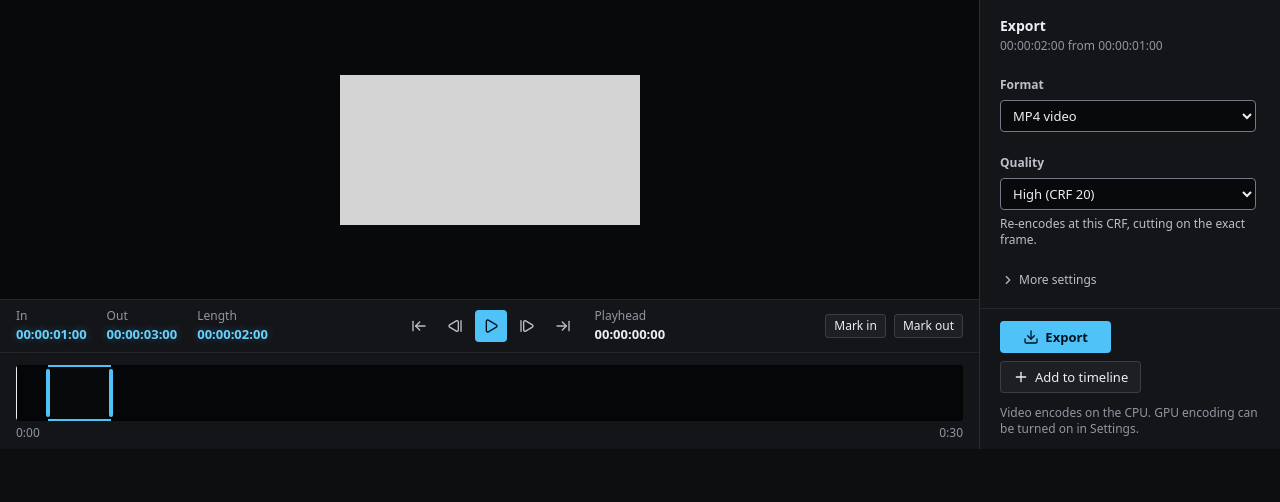
Scenario: the Trim workspace › exports the in to out range with the chosen settings and shows the saved file
Step 1. Select "Medium (CRF 23)" in the 2nd dropdown named "Quality" → (1128, 194), box [1000,178,1256,210]
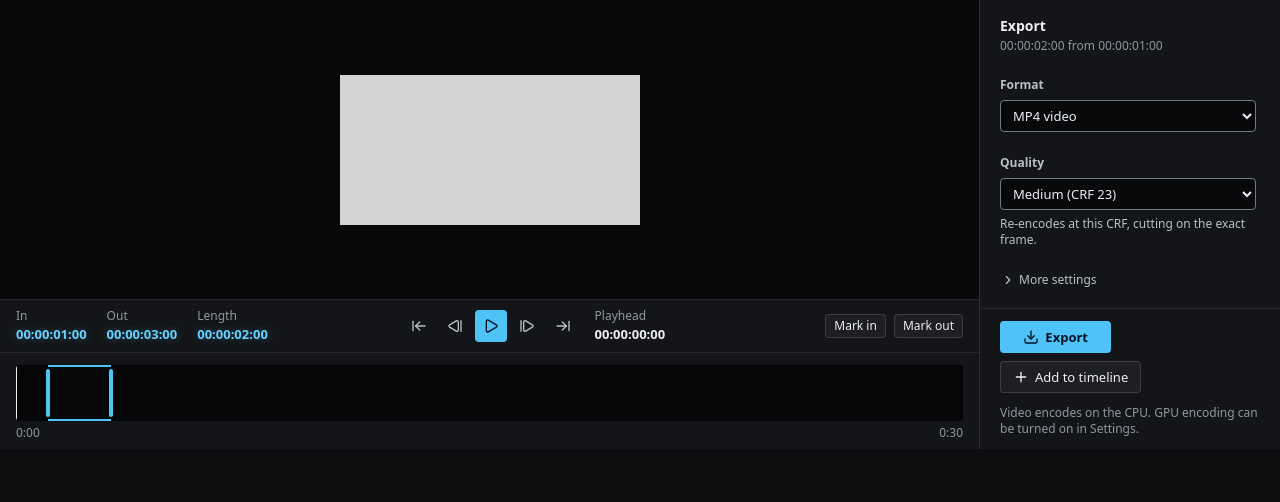
Step 2. Click the button "Export" → (1056, 337), box [1000,321,1111,353]
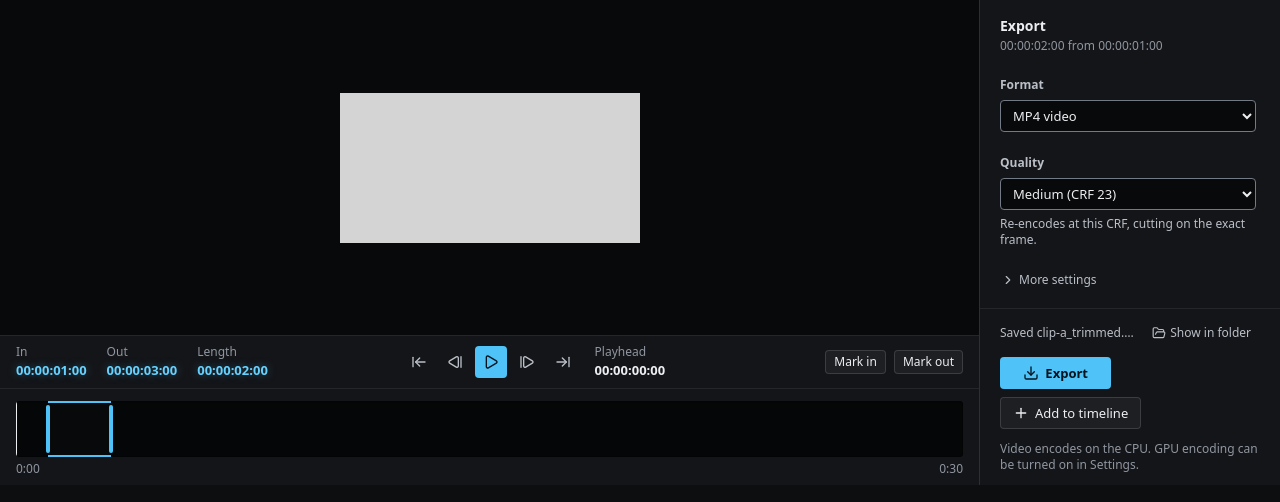
Now the text "Saved clip-a_trimmed.mp4" is shown, box [1000,325,1135,341]
